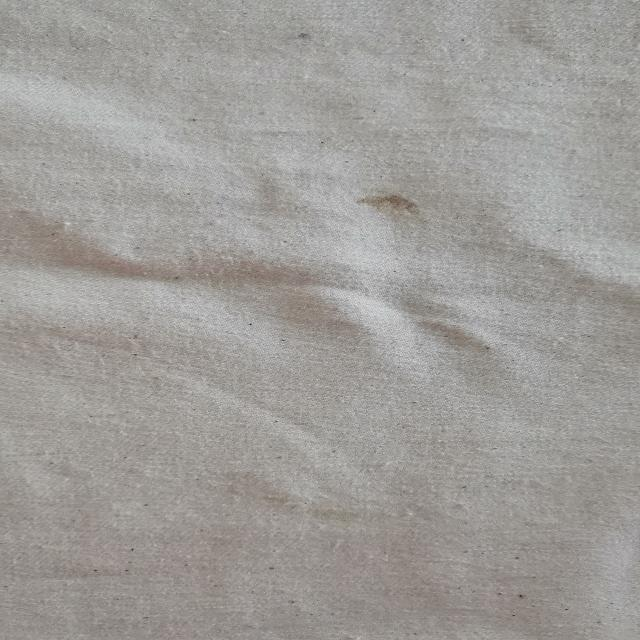taaaches: (324, 178, 452, 232)
